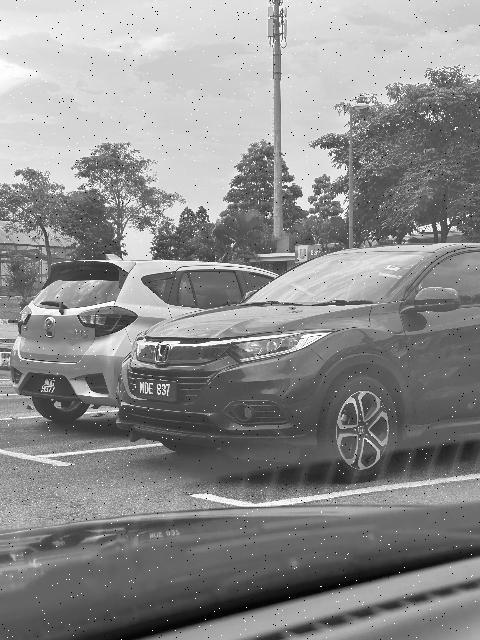License_Plate: (136, 376, 181, 405), (30, 375, 68, 398)
MDE837: (136, 376, 181, 405)
car: (119, 237, 480, 476), (9, 254, 289, 427)
